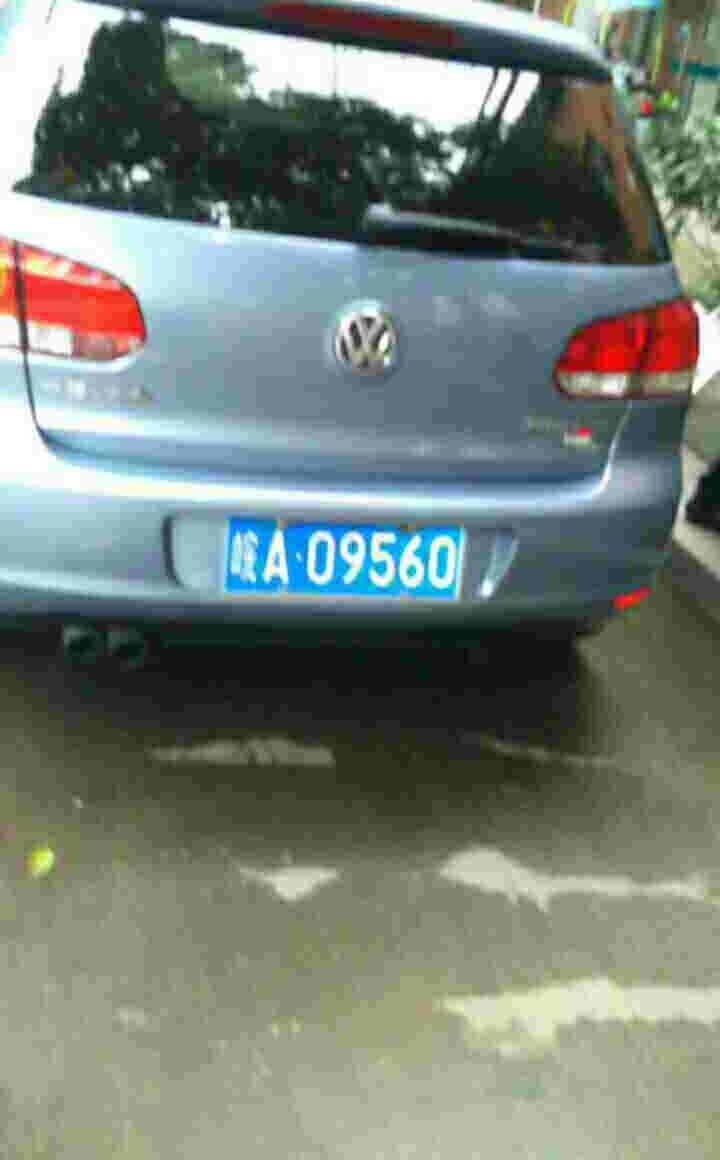license_plate: (224, 517, 462, 600)
